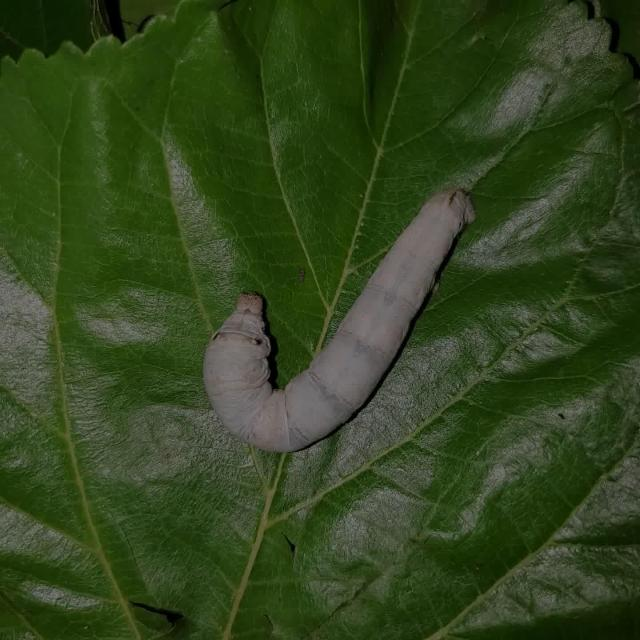Healthy: (165, 153, 501, 479)
